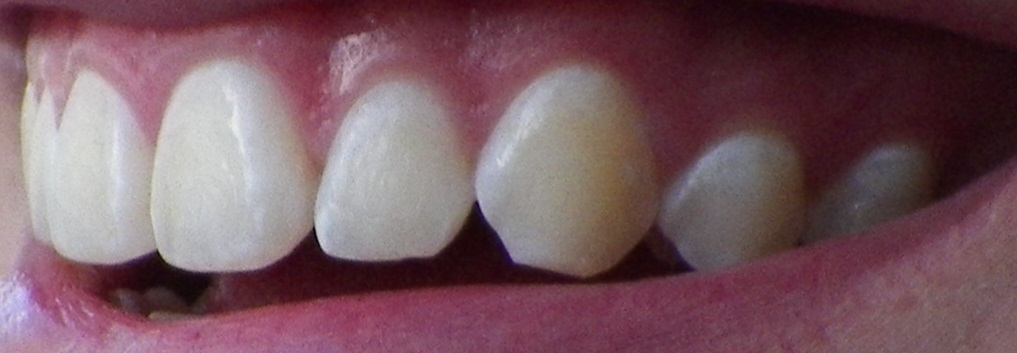boca: (7, 66, 945, 266)
